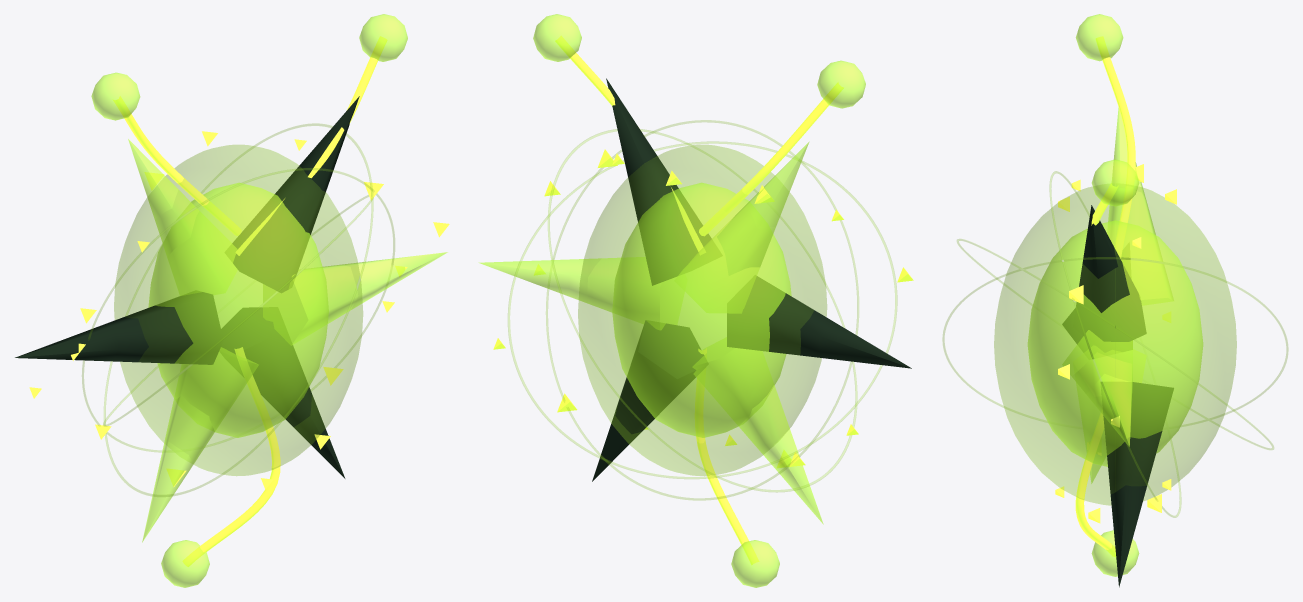
Rendered from pmu-seedpod.glb.
3 views of the same model, side by side, from view 1: azimuth 30°, elevation 25°; view 2: azimuth 150°, elevation 25°; view 3: azimuth 270°, elevation 25° (orthographic). The views are drawn at different scales.
Parts seen in each view (by area): view 1: SEED_MEMBRANE, MEMORY_EMBRYO, PETAL_03, PETAL_01, PETAL_04, PETAL_00, PETAL_02, PETAL_05, SKILL_STEM_2, GERMINATION_VEIN_02, SKILL_BUD_1, SKILL_BUD_0 (+5 smaller); view 2: SEED_MEMBRANE, MEMORY_EMBRYO, PETAL_02, PETAL_04, PETAL_00, PETAL_03, PETAL_01, PETAL_05, GERMINATION_VEIN_01, GERMINATION_VEIN_00, GERMINATION_VEIN_02, SKILL_STEM_1 (+5 smaller); view 3: SEED_MEMBRANE, MEMORY_EMBRYO, PETAL_05, PETAL_01, PETAL_02, PETAL_00, SKILL_STEM_1, SKILL_BUD_0, SKILL_BUD_1, GERMINATION_VEIN_02, SKILL_STEM_2, PETAL_04 (+3 smaller).
Part boxes in pixels (bbox=[...]): SEED_MEMBRANE: bbox=[114, 145, 362, 475]; MEMORY_EMBRYO: bbox=[148, 182, 328, 437]; PETAL_03: bbox=[15, 292, 223, 364]; PETAL_01: bbox=[232, 96, 359, 292]; PETAL_04: bbox=[142, 348, 257, 542]; PETAL_00: bbox=[263, 252, 447, 344]; PETAL_02: bbox=[128, 139, 236, 295]; PETAL_05: bbox=[221, 307, 345, 478]; SKILL_STEM_2: bbox=[182, 347, 280, 566]; GERMINATION_VEIN_02: bbox=[104, 123, 373, 496]; SKILL_BUD_1: bbox=[91, 72, 140, 120]; SKILL_BUD_0: bbox=[359, 14, 407, 61]; SEED_MEMBRANE: bbox=[578, 145, 826, 475]; MEMORY_EMBRYO: bbox=[612, 182, 791, 437]; PETAL_02: bbox=[675, 142, 808, 312]; PETAL_04: bbox=[693, 337, 823, 524]; PETAL_00: bbox=[479, 257, 684, 329]; PETAL_03: bbox=[727, 276, 911, 368]; PETAL_01: bbox=[606, 78, 711, 285]; PETAL_05: bbox=[592, 321, 703, 481]; GERMINATION_VEIN_01: bbox=[508, 141, 897, 478]; GERMINATION_VEIN_00: bbox=[546, 120, 858, 500]; GERMINATION_VEIN_02: bbox=[548, 129, 857, 492]; SKILL_STEM_1: bbox=[699, 82, 843, 235]; SEED_MEMBRANE: bbox=[994, 187, 1236, 505]; MEMORY_EMBRYO: bbox=[1027, 220, 1203, 466]; PETAL_05: bbox=[1101, 382, 1173, 587]; PETAL_01: bbox=[1073, 205, 1146, 341]; PETAL_02: bbox=[1107, 108, 1173, 304]; PETAL_00: bbox=[1062, 330, 1132, 446]; SKILL_STEM_1: bbox=[1096, 36, 1135, 258]; SKILL_BUD_0: bbox=[1092, 159, 1138, 206]; SKILL_BUD_1: bbox=[1076, 14, 1123, 61]; GERMINATION_VEIN_02: bbox=[942, 257, 1288, 426]; SKILL_STEM_2: bbox=[1075, 413, 1115, 556]; PETAL_04: bbox=[1076, 349, 1145, 483].
Size of the model in its own units: 2.46 by 2.9 by 1.74.
